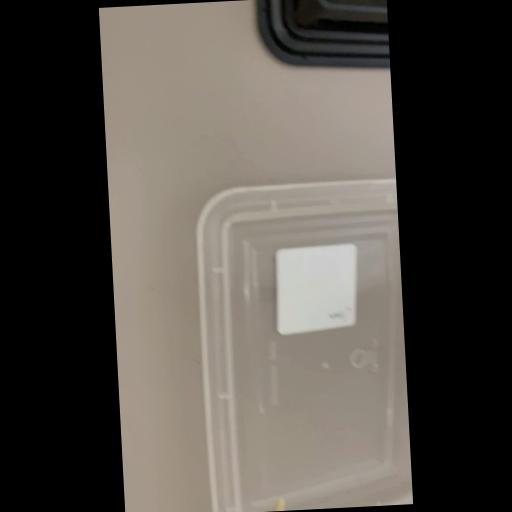rigid_plastic_lid: (192, 179, 414, 512)
